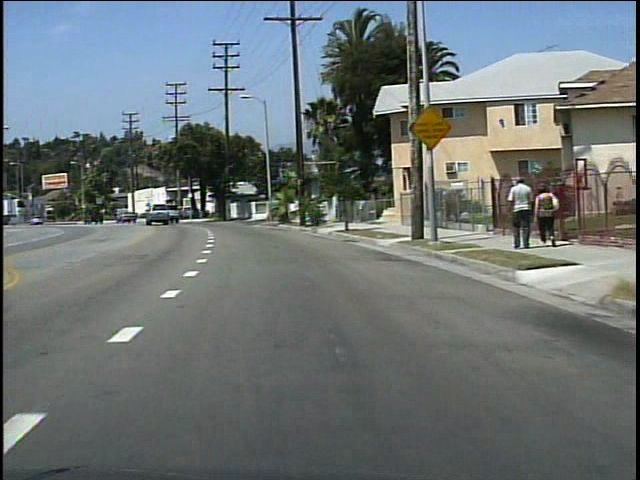person: (502, 173, 531, 251), (530, 182, 558, 246)
